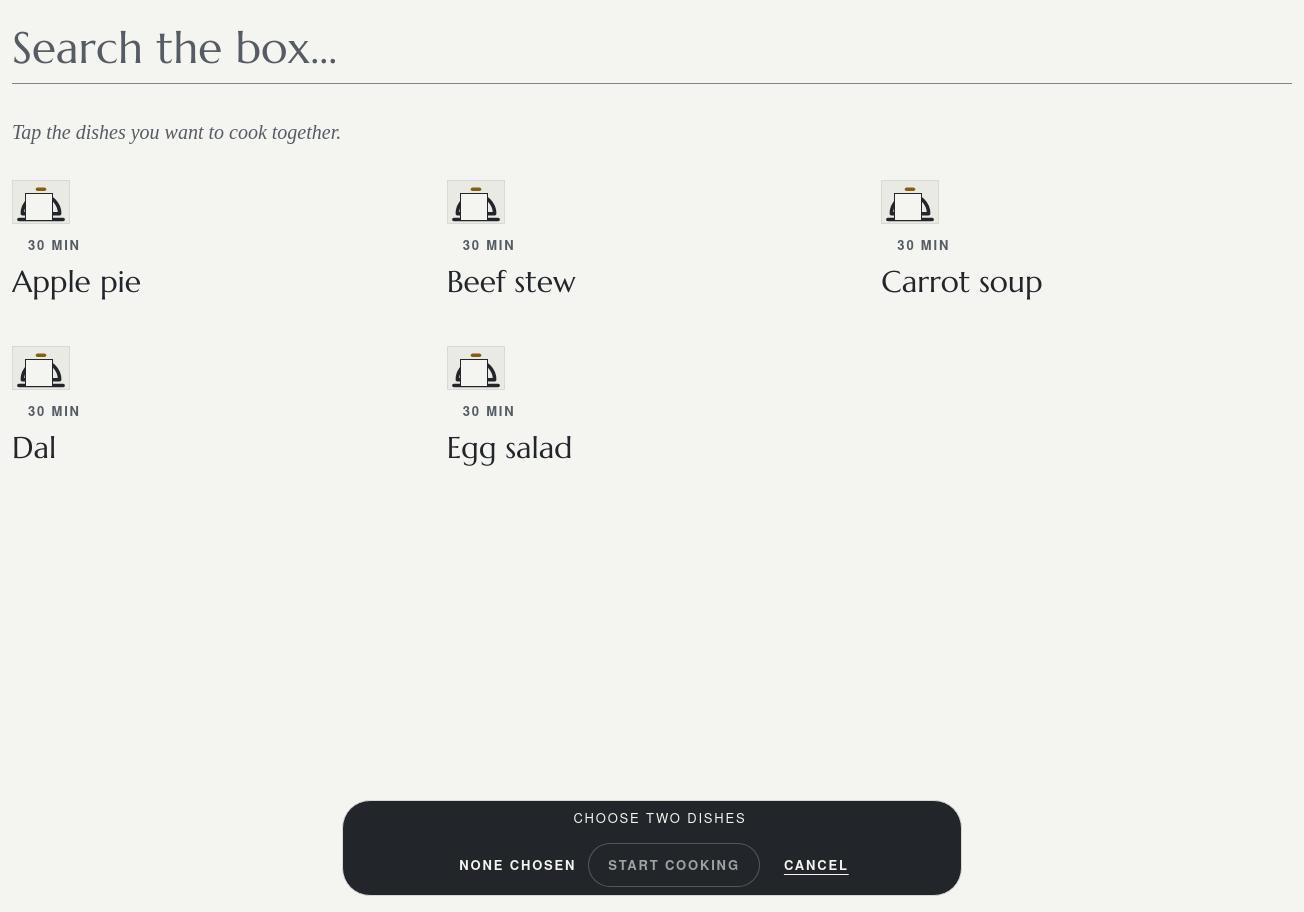
Test: DishPicker search › keeps the dishes on screen and says so when the search fails
The image size is (1304, 912).
In the search field named "Search recipes": (652, 48) [12,12,1292,84], type "pie"
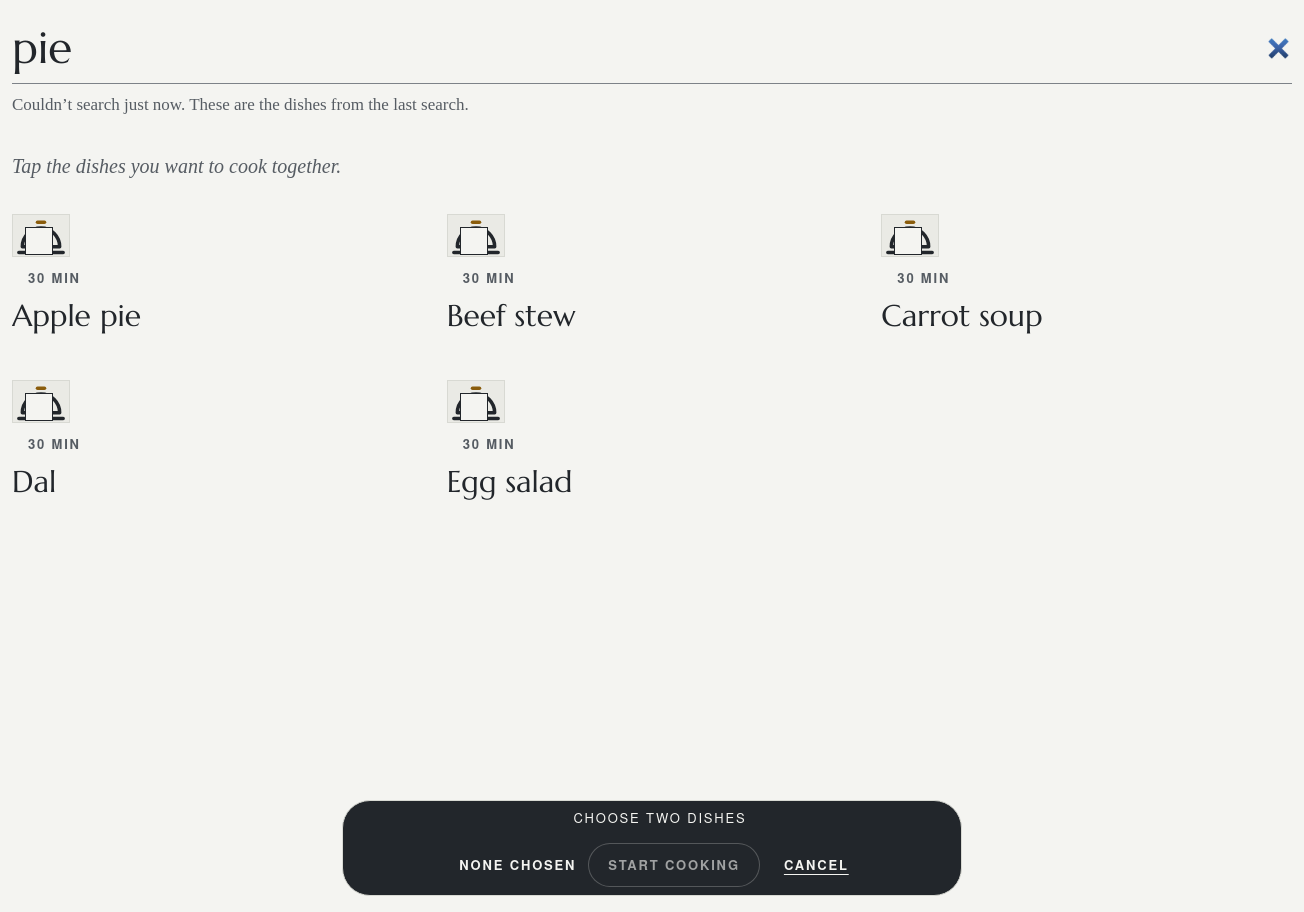
Expected: the button "30 min Apple pie" is shown, [12,214,423,332]
Expected: the text "Couldn’t search just now" is shown, [12,95,469,114]
